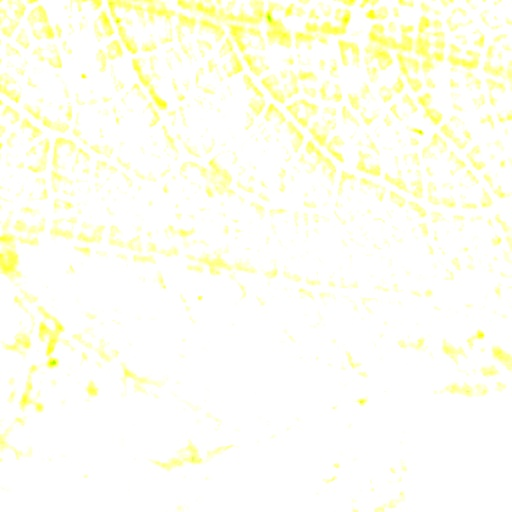Angular Leafspot: (0, 0, 511, 511)
